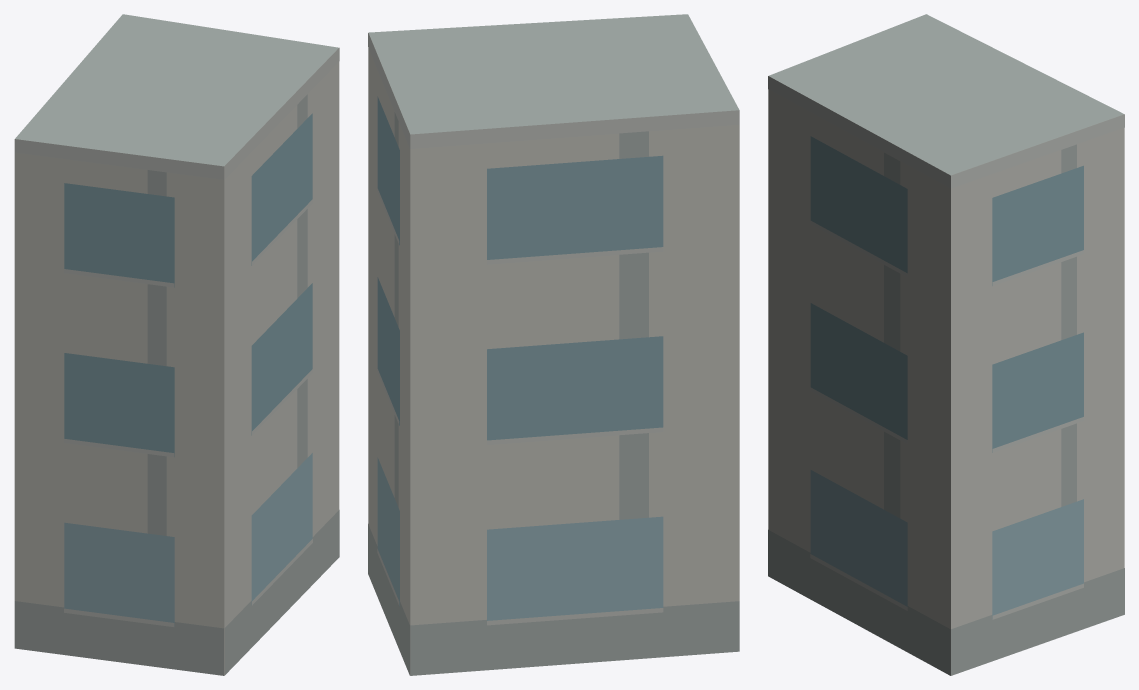
The model's file is survey-upis-32571796.glb.
The picture shows the model from 3 angles, left to right: view 1: azimuth 30°, elevation 25°; view 2: azimuth 150°, elevation 25°; view 3: azimuth 270°, elevation 25°; orthographic projection. The views are drawn at different scales.
Visible parts, largest first — view 1: survey-upis-32571796.tmp; view 2: survey-upis-32571796.tmp; view 3: survey-upis-32571796.tmp.
Boxes of the visible parts, box(x1,y1,x2,y2) form: survey-upis-32571796.tmp: box(14, 14, 339, 675); survey-upis-32571796.tmp: box(368, 14, 739, 675); survey-upis-32571796.tmp: box(768, 14, 1124, 675).
Size of the model in its own units: 6.34 by 9.15 by 5.92.
